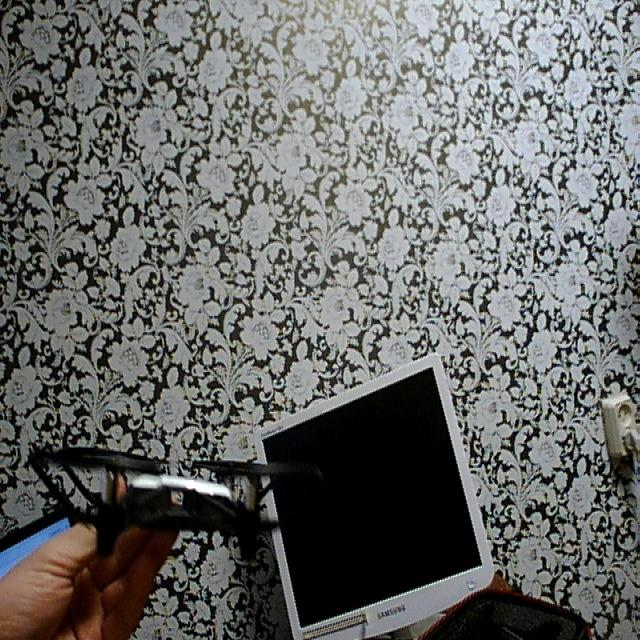drone: (21, 418, 283, 570)
